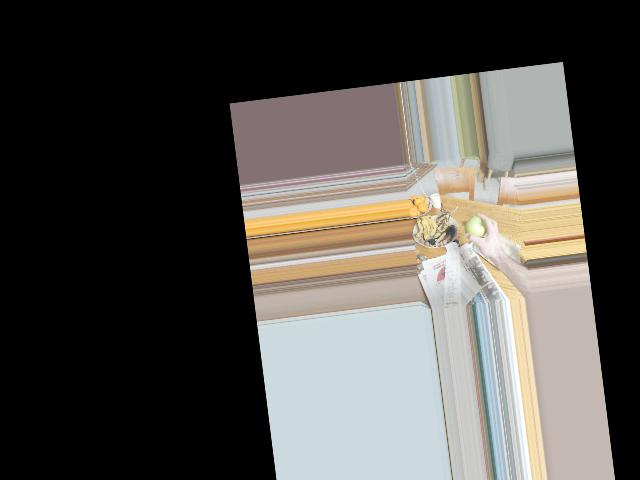apple: (465, 213, 488, 240)
